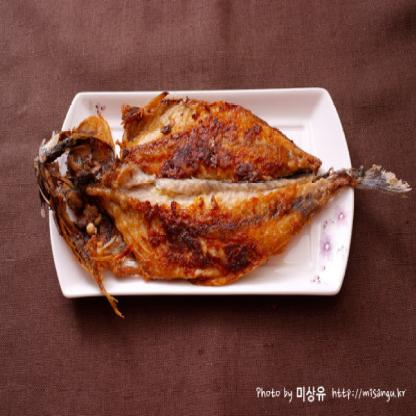Peixe: (28, 91, 412, 300)
